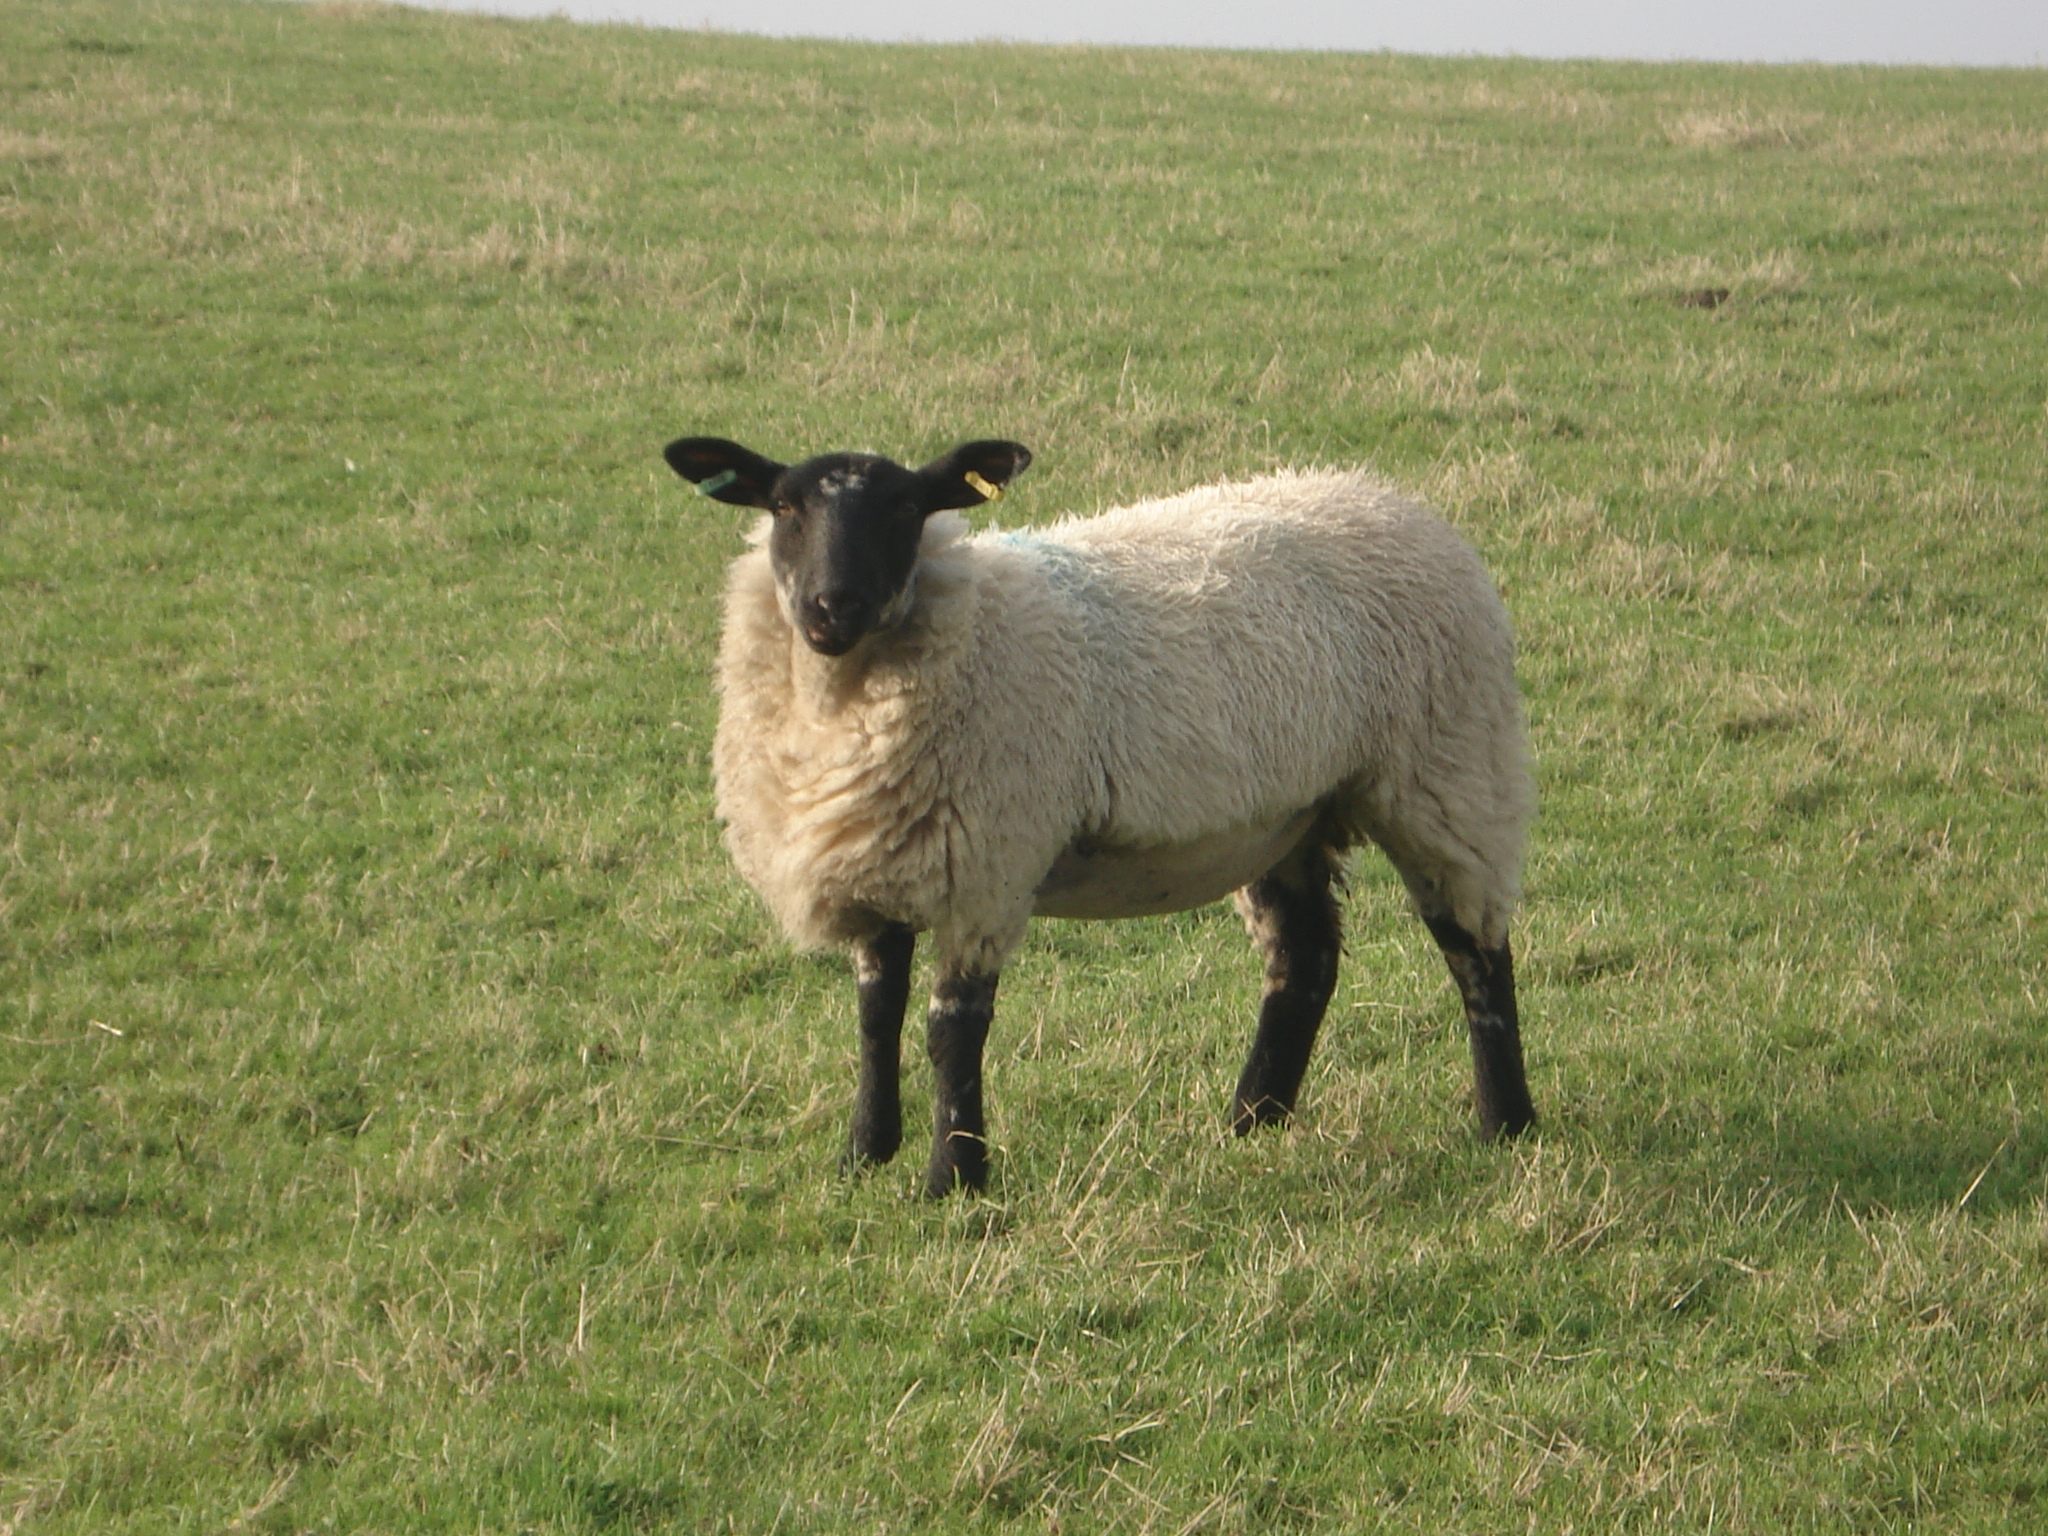sheep: (660, 431, 1555, 1207)
